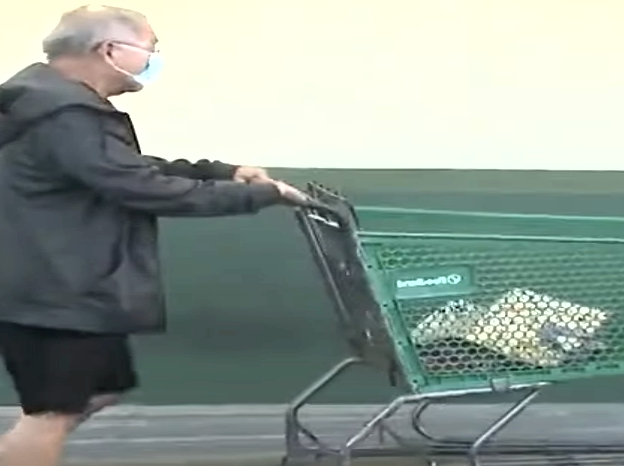mask_weared_incorrect: (87, 3, 169, 95)
